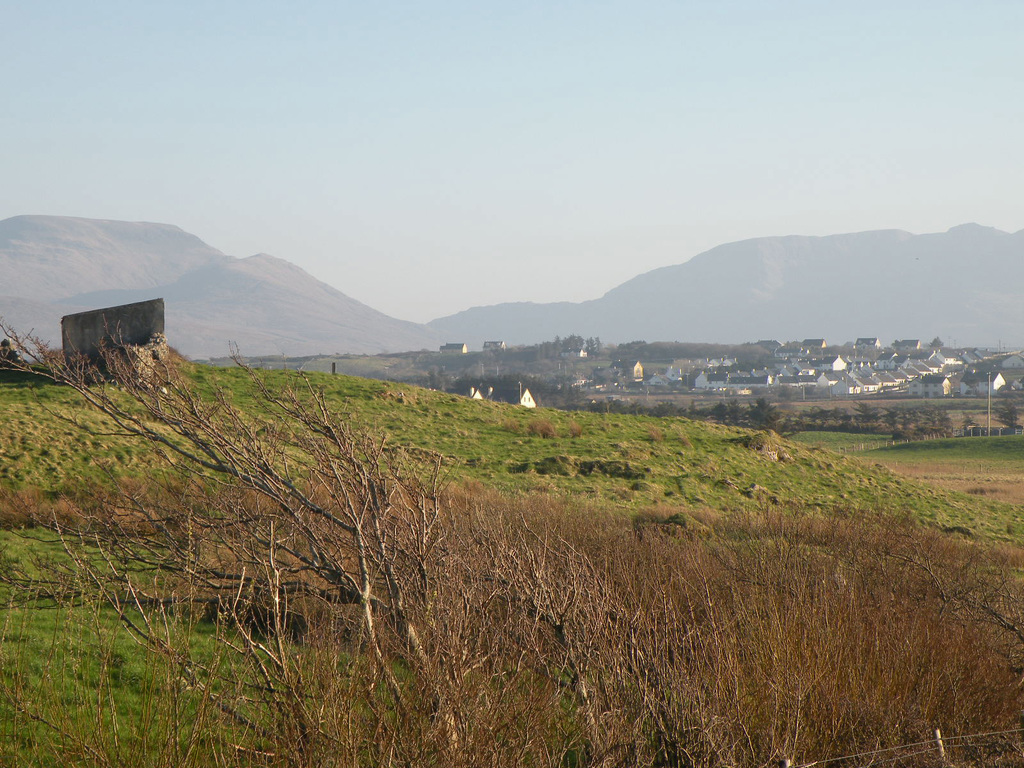Tree: (0, 309, 480, 767)
